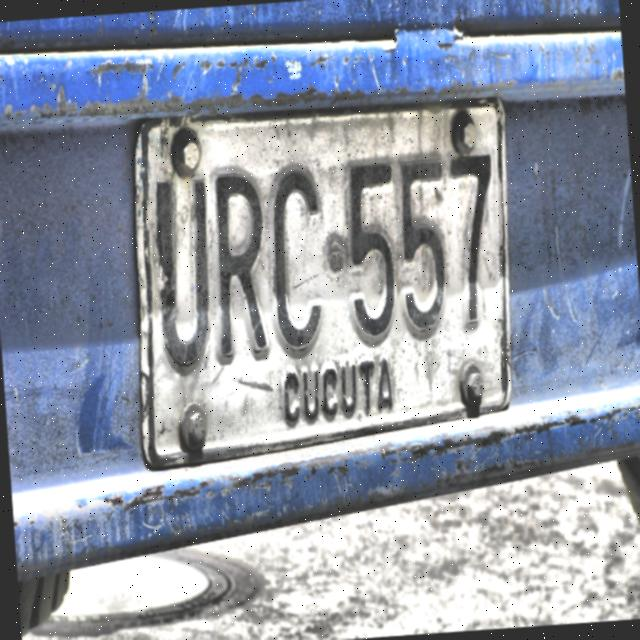plate: (135, 92, 513, 468)
